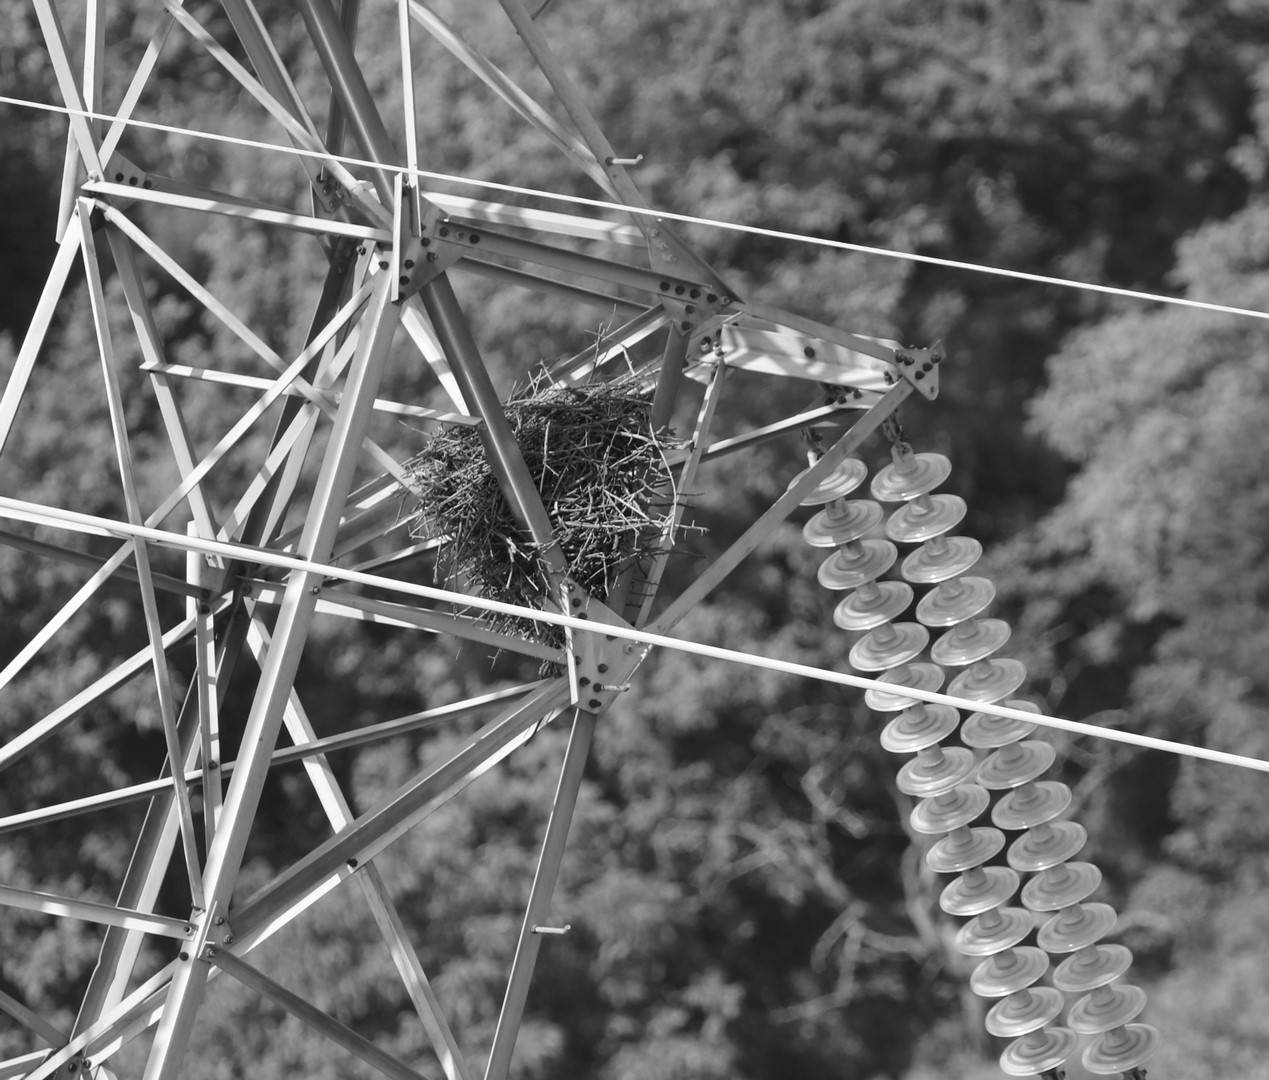niaowo: (383, 359, 703, 634)
